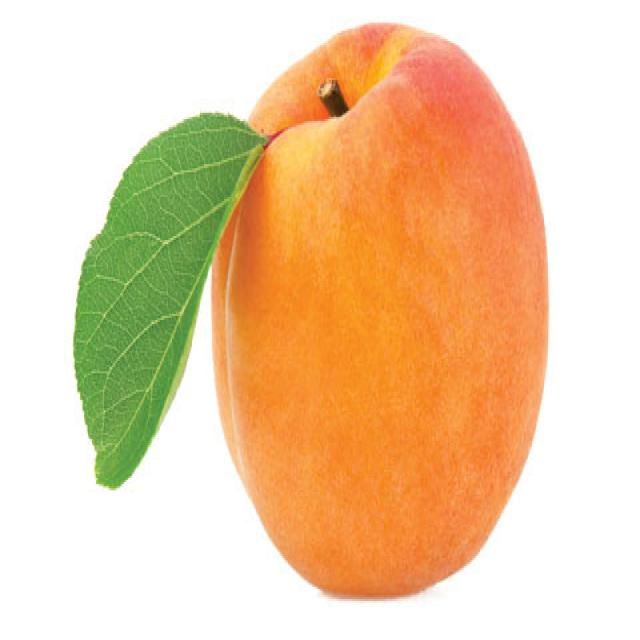kayisi: (205, 23, 549, 601)
kayisiyapragi: (72, 113, 267, 492)
